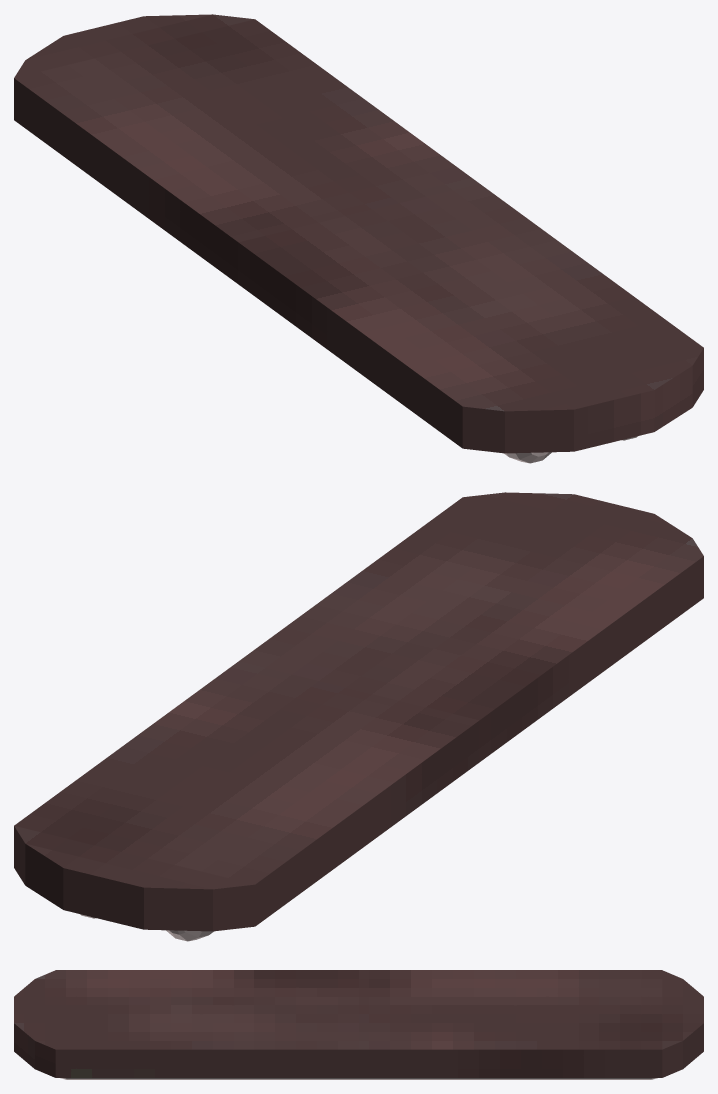
The model's file is FluorescentLamp.fbx.
The picture shows the model from 3 angles, top to bottom: view 1: azimuth 30°, elevation 25°; view 2: azimuth 150°, elevation 25°; view 3: azimuth 270°, elevation 25°; orthographic projection. The views are drawn at different scales.
Visible parts, largest first — view 1: cuboid; view 2: cuboid; view 3: cuboid, sphere_1.
Boxes of the visible parts, box(x1,y1,x2,y2) form: cuboid: box(14, 14, 703, 453); cuboid: box(14, 492, 703, 931); cuboid: box(14, 970, 703, 1077); sphere_1: box(60, 1078, 657, 1079).
Size of the model in its own units: 56.25 by 17.19 by 206.
